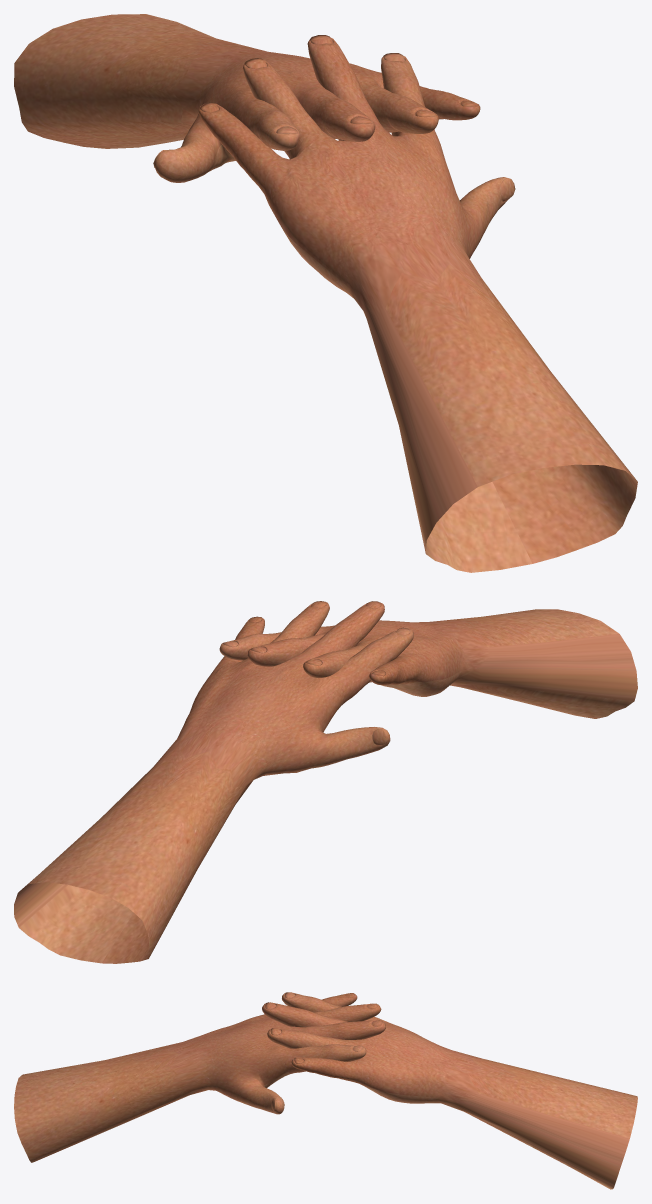
Rendered from hands_000112.obj.
The picture shows the model from 3 angles, top to bottom: view 1: azimuth 30°, elevation 25°; view 2: azimuth 150°, elevation 25°; view 3: azimuth 270°, elevation 25°; orthographic projection. The views are drawn at different scales.
Visible parts, largest first — view 1: hand.001_Mesh.001, hand_Mesh; view 2: hand_Mesh, hand.001_Mesh.001; view 3: hand_Mesh, hand.001_Mesh.001.
Part boxes in pixels (x1=…): hand.001_Mesh.001: x1=198, y1=35, x2=637, y2=572; hand_Mesh: x1=14, y1=14, x2=480, y2=182; hand_Mesh: x1=14, y1=601, x2=413, y2=963; hand.001_Mesh.001: x1=219, y1=609, x2=637, y2=718; hand_Mesh: x1=262, y1=992, x2=637, y2=1189; hand.001_Mesh.001: x1=14, y1=993, x2=385, y2=1162.
Bounding box in the file's own units: 1.64 × 1.42 × 5.06.
1 material, 1 textured.
